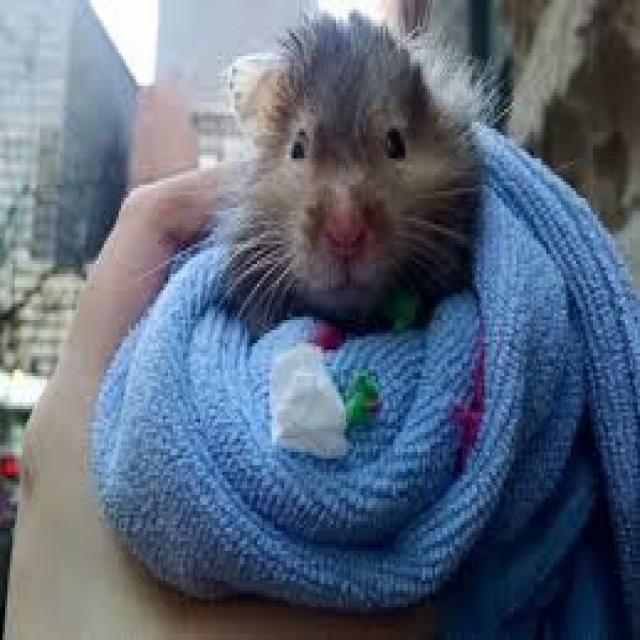hamster: (266, 52, 439, 280)
